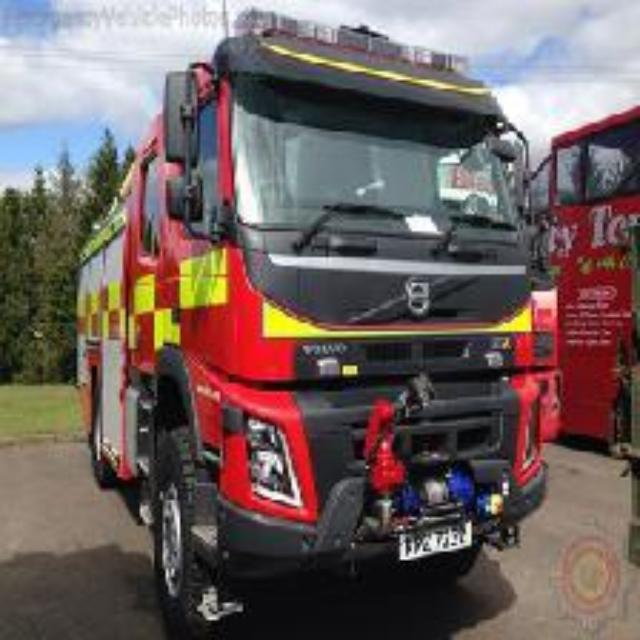emergency: (55, 34, 552, 614)
